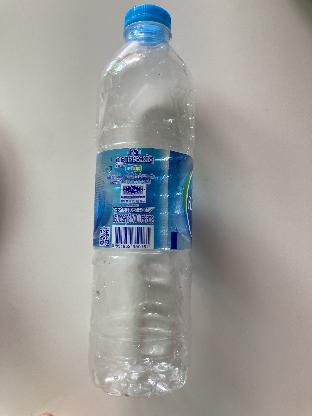Plastic Bottle: (86, 1, 196, 399)
